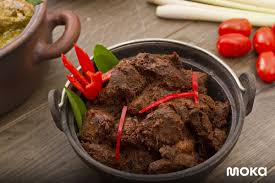rendang: (58, 36, 251, 178)
